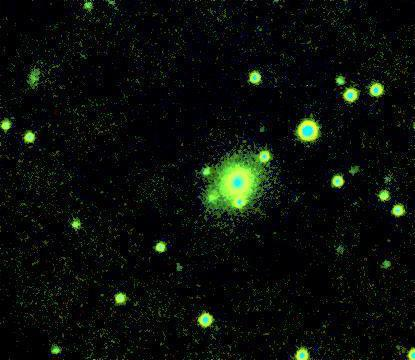star: (196, 183, 226, 213)
